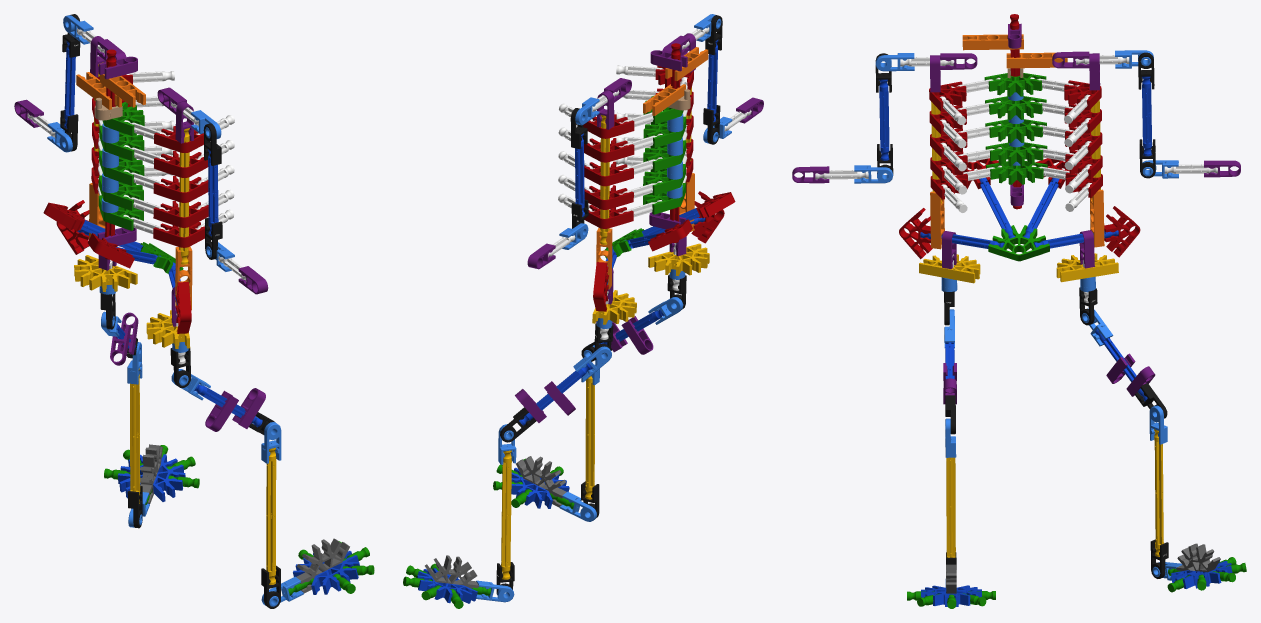
The picture shows the model from 3 angles, left to right: view 1: azimuth 30°, elevation 25°; view 2: azimuth 150°, elevation 25°; view 3: azimuth 270°, elevation 25°; orthographic projection. The views are drawn at different scales.
Parts seen in each view (by area): view 1: B1_L14.001, B1_L14.002, B1_L14.005, B1_L14.008, B1_L14.012, B1_L14.007, B1_L14.009, B1_L14.010, B1_L14.003, B1_L14, B1_L14.006; view 2: B1_L14.001, B1_L14.008, B1_L14.002, B1_L14.012, B1_L14.005, B1_L14.007, B1_L14.009, B1_L14.010, B1_L14.003, B1_L14, B1_L14.006; view 3: B1_L14.001, B1_L14.005, B1_L14.007, B1_L14.012, B1_L14.002, B1_L14.008, B1_L14.009, B1_L14.010, B1_L14.003, B1_L14, B1_L14.006.
Part boxes in pixels (x1,y1,x2,y2): B1_L14.001: (43, 49, 208, 333); B1_L14.002: (14, 36, 268, 431); B1_L14.005: (98, 102, 374, 595); B1_L14.008: (74, 62, 276, 584); B1_L14.012: (64, 41, 359, 594); B1_L14.007: (27, 28, 246, 364); B1_L14.009: (47, 15, 303, 606); B1_L14.010: (60, 14, 280, 608); B1_L14.003: (76, 72, 192, 310); B1_L14: (140, 444, 349, 593); B1_L14.006: (99, 123, 188, 352); B1_L14.001: (583, 43, 735, 311); B1_L14.008: (501, 87, 709, 579); B1_L14.002: (515, 33, 763, 422); B1_L14.012: (416, 39, 718, 603); B1_L14.005: (403, 96, 686, 608); B1_L14.007: (548, 27, 751, 339); B1_L14.009: (476, 14, 732, 602); B1_L14.010: (496, 15, 722, 594); B1_L14.003: (596, 47, 708, 289); B1_L14: (425, 456, 566, 588); B1_L14.006: (596, 113, 685, 328); B1_L14.001: (899, 14, 1140, 259); B1_L14.005: (907, 73, 1246, 608); B1_L14.007: (815, 55, 1217, 302); B1_L14.012: (879, 76, 1232, 606); B1_L14.002: (792, 23, 1240, 404); B1_L14.008: (919, 100, 1163, 557); B1_L14.009: (854, 50, 1182, 587); B1_L14.010: (875, 52, 1168, 578); B1_L14.003: (930, 34, 1104, 249); B1_L14: (946, 543, 1220, 593); B1_L14.006: (941, 92, 1095, 292).
Size of the model in its own units: 1.72 by 3.51 by 2.79.
